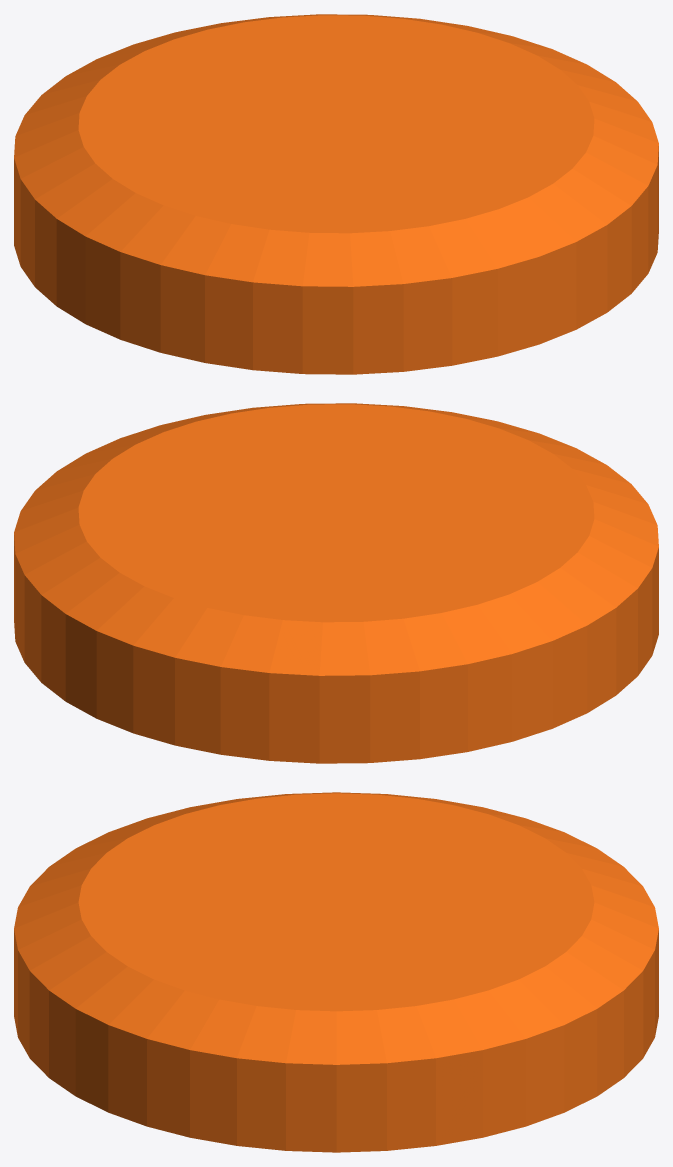
The model's file is loot-moeda.glb.
3 renders of one model, top to bottom at view 1: azimuth 30°, elevation 25°; view 2: azimuth 150°, elevation 25°; view 3: azimuth 270°, elevation 25°, orthographic.
Visible parts, largest first — view 1: loot-moeda; view 2: loot-moeda; view 3: loot-moeda.
Part boxes in pixels (x1,y1,x2,y2): loot-moeda: (14,14,658,374); loot-moeda: (14,403,658,763); loot-moeda: (14,792,658,1152).
Size of the model in its own units: 1.2 by 0.288 by 1.2.
